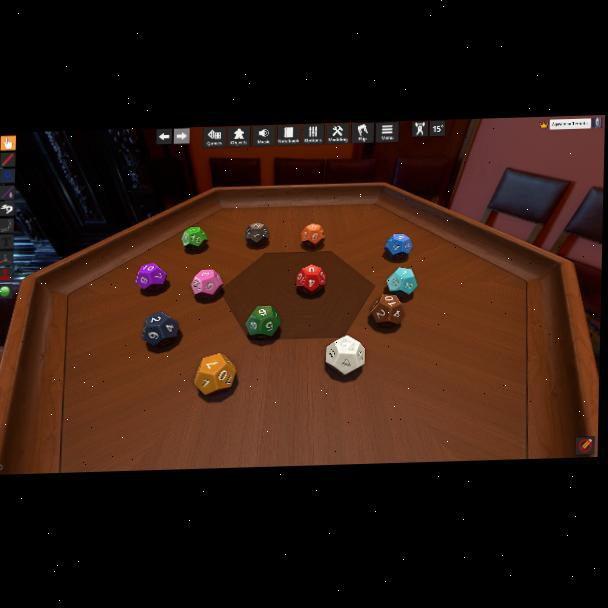d12: (194, 353, 237, 396), (323, 335, 361, 375), (142, 311, 179, 349), (370, 294, 405, 328), (245, 305, 280, 339), (191, 268, 222, 299), (136, 262, 168, 292), (386, 268, 417, 298), (385, 233, 414, 261), (296, 266, 323, 296), (245, 221, 270, 247), (182, 226, 207, 252), (301, 224, 324, 249)
